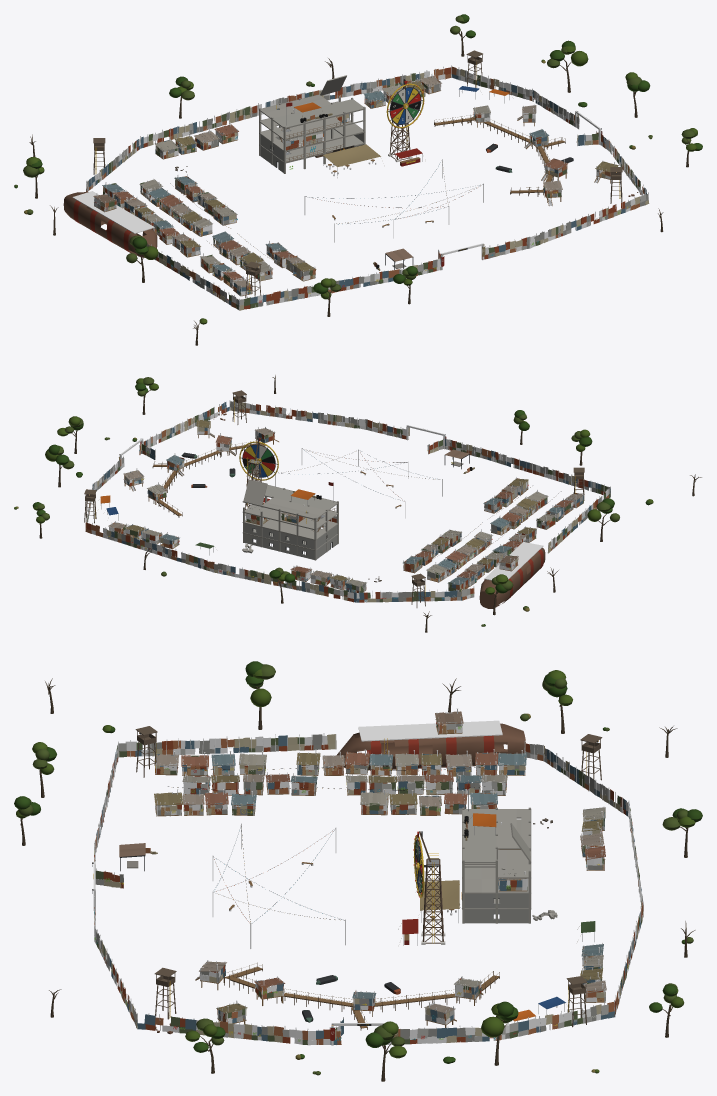
Rendered from reclaimer-camp.glb.
3 views of the same model, one above another, from view 1: azimuth 30°, elevation 25°; view 2: azimuth 150°, elevation 25°; view 3: azimuth 270°, elevation 25° (orthographic). The views are drawn at different scales.
Visible parts, largest first — view 1: C0_0_lod0, C-2_0_lod0, C-2_-1_lod0, C-1_0_lod0, C1_0_lod0, C-1_1_lod0, C1_-1_lod0, C0_1_lod0, C-1_-2_lod0, C-1_-1_lod0, C0_-2_lod0, C-2_-2_lod0 (+3 smaller); view 2: C-2_0_lod0, C0_0_lod0, C-1_0_lod0, C-2_-1_lod0, C1_-1_lod0, C1_0_lod0, C-1_1_lod0, C0_1_lod0, C-1_-2_lod0, C0_-2_lod0, C-1_-1_lod0, C-2_-2_lod0 (+3 smaller); view 3: C-2_0_lod0, C-2_-1_lod0, C0_0_lod0, C1_0_lod0, C1_-1_lod0, C-1_0_lod0, C-1_-1_lod0, C-1_1_lod0, C1_1_lod0, C0_1_lod0, C0_-1_lod0, C-1_-2_lod0 (+2 smaller).
Boxes of the visible parts, x1,y1,x2,y2 form: C0_0_lod0: [259, 75, 497, 169]; C-2_0_lod0: [23, 156, 211, 257]; C-2_-1_lod0: [126, 219, 272, 308]; C-1_0_lod0: [170, 94, 343, 225]; C1_0_lod0: [459, 40, 650, 152]; C-1_1_lod0: [125, 76, 257, 160]; C1_-1_lod0: [537, 128, 702, 213]; C0_1_lod0: [256, 58, 425, 115]; C-1_-2_lod0: [310, 249, 460, 304]; C-1_-1_lod0: [221, 196, 448, 281]; C0_-2_lod0: [441, 211, 599, 260]; C-2_-2_lod0: [193, 278, 341, 345]; C-2_0_lod0: [412, 530, 558, 615]; C0_0_lod0: [132, 437, 338, 553]; C-1_0_lod0: [262, 482, 482, 582]; C-2_-1_lod0: [478, 467, 619, 553]; C1_-1_lod0: [104, 377, 260, 469]; C1_0_lod0: [45, 416, 184, 523]; C-1_1_lod0: [244, 565, 386, 603]; C0_1_lod0: [117, 524, 244, 578]; C-1_-2_lod0: [427, 410, 553, 479]; C0_-2_lod0: [286, 408, 445, 440]; C-1_-1_lod0: [367, 449, 530, 530]; C-2_-2_lod0: [552, 429, 701, 505]; C-2_0_lod0: [317, 670, 584, 795]; C-2_-1_lod0: [125, 661, 354, 795]; C0_0_lod0: [384, 783, 581, 994]; C1_0_lod0: [331, 976, 587, 1081]; C1_-1_lod0: [127, 967, 354, 1075]; C-1_0_lod0: [317, 781, 581, 891]; C-1_-1_lod0: [119, 786, 351, 887]; C-1_1_lod0: [580, 787, 702, 893]; C1_1_lod0: [581, 977, 684, 1073]; C0_1_lod0: [580, 880, 695, 990]; C0_-1_lod0: [195, 826, 345, 993]; C-1_-2_lod0: [14, 787, 123, 888].
Size of what is drawn, in the model's own units: 191 by 28.29 by 146.
